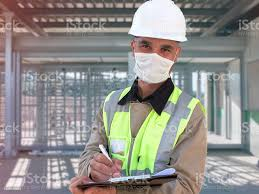Helmet: (127, 1, 199, 44)
Jacket: (105, 92, 192, 194)
Mask: (128, 50, 180, 87)
